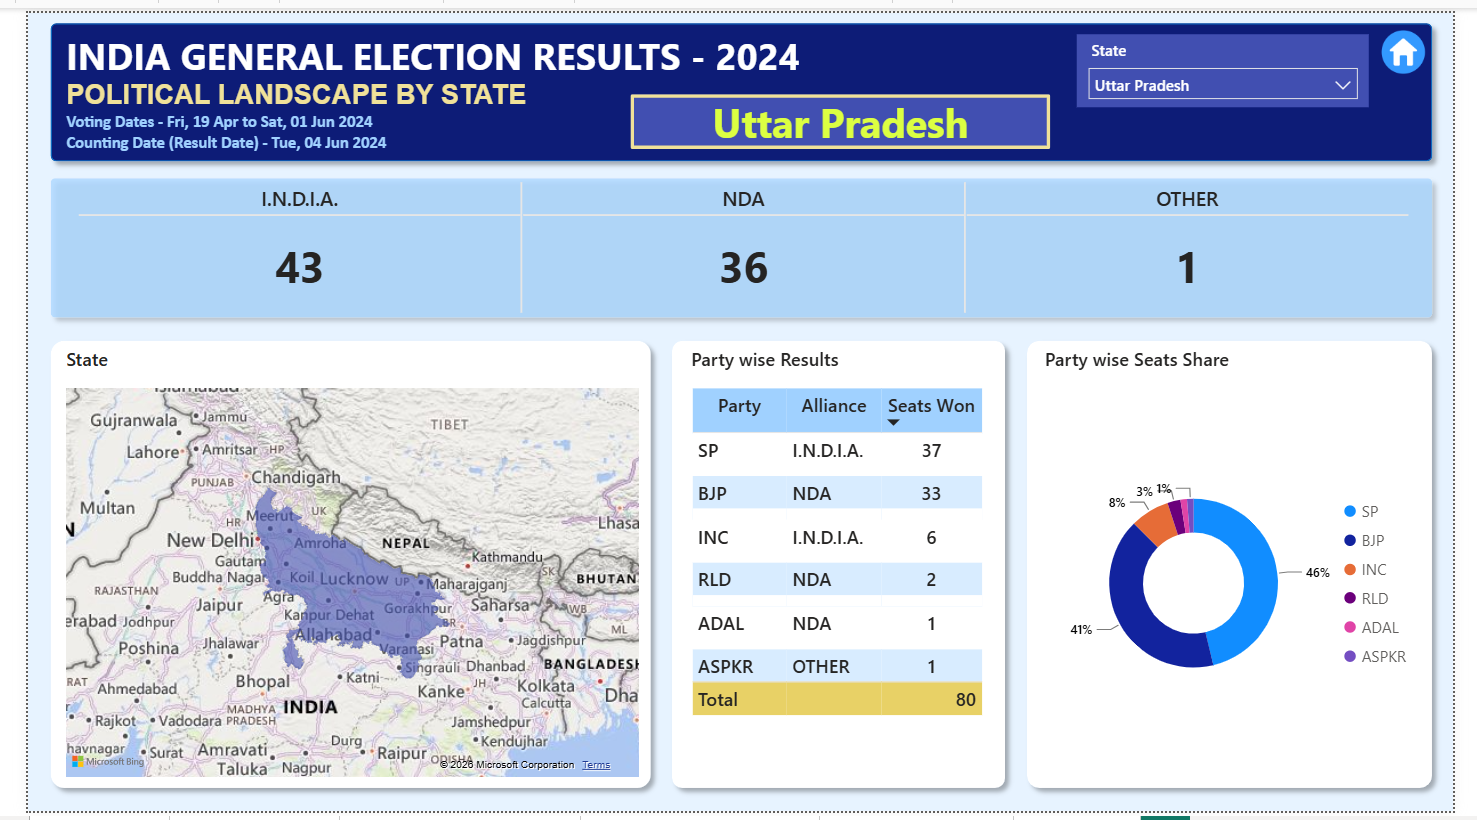

What the dashboard file says about the page in this screenshot:
{"tool":"powerbi","page":{"name":"Political Landscape by State","canvas":[1250,700],"ordinal":3},"visuals":[{"type":"shape","box":[11,0,1229,139],"z":0},{"type":"textbox","box":[28,11,672,118],"z":1000},{"type":"shape","box":[11,136,1229,140],"z":2000},{"type":"cardVisual","fields":{"Data":["CountNonNull(constituencywise_results.Constituency Name)"],"Rows":["constituencywise_results.Party Alliance (Result)"]},"box":[20,144,1215,124],"z":3000},{"type":"slicer","fields":{"Values":["states.State"]},"box":[919,19,256,64],"z":4000},{"type":"shape","box":[11,278,544,410],"z":5000},{"type":"filledMap","fields":{"Category":["states.State"]},"box":[28,292,512,384],"z":6000},{"type":"shape","box":[556,278,310,410],"z":7000},{"type":"tableEx","title":"Party wise Results","fields":{"Values":["constituencywise_results.Party Short Name","constituencywise_results.Party Alliance (Result)","CountNonNull(constituencywise_results.Constituency Name)"]},"box":[576,292,272,384],"z":8000},{"type":"shape","box":[867,278,373,410],"z":9000},{"type":"donutChart","title":"Party wise Seats Share ","fields":{"Category":["constituencywise_results.Party Short Name"],"Y":["CountNonNull(constituencywise_results.Constituency Name)"]},"box":[886,292,336,384],"z":10000},{"type":"shape","box":[528,71,368,48],"z":11000},{"type":"cardVisual","fields":{"Data":["Min(states.State)"]},"box":[528,70,368,48],"z":12000},{"type":"image","box":[1186,14,40,40],"z":13000}]}

Visuals, with their boxes in screenshot pixels (x1, y1, x2, y2), scaled from the page's 1250x700 canvas onto the 1477x820 screenshot:
shape: [13,0,1465,163]
textbox: [33,13,827,151]
shape: [13,159,1465,323]
cardVisual - CountNonNull(constituencywise_results.Constituency Name) x constituencywise_results.Party Alliance (Result): [24,169,1459,314]
slicer - states.State: [1086,22,1388,97]
shape: [13,326,656,806]
filledMap - states.State: [33,342,638,792]
shape: [657,326,1023,806]
"Party wise Results" tableEx: [681,342,1002,792]
shape: [1024,326,1465,806]
"Party wise Seats Share " donutChart: [1047,342,1444,792]
shape: [624,83,1059,139]
cardVisual - Min(states.State): [624,82,1059,138]
image: [1401,16,1449,63]
